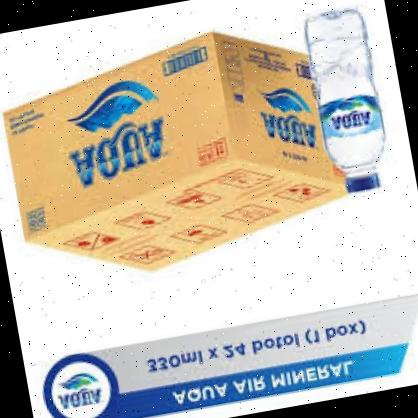bottle: (288, 0, 406, 203)
cap: (344, 170, 384, 194)
label: (313, 91, 387, 140)
